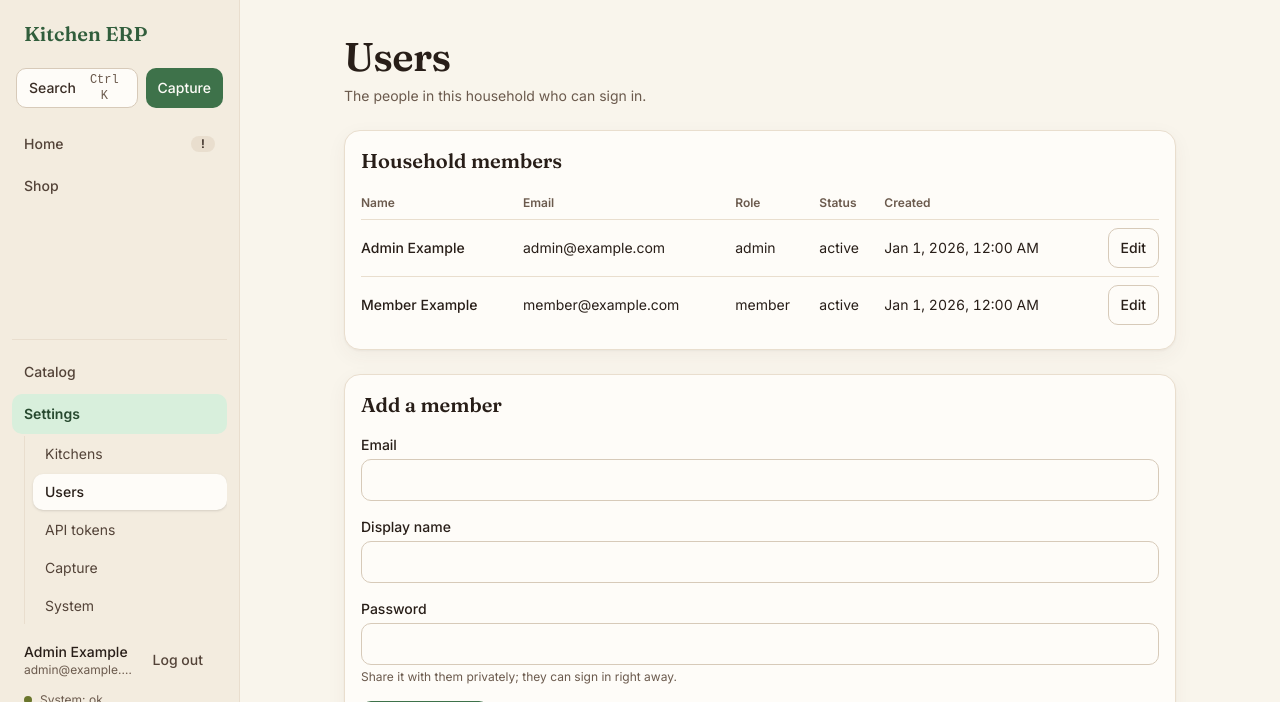
Test case: household members › deactivates a member only after saying what it does
Click the button with aria-label "Edit Member Example" at (1133, 305), box [1108,285,1159,325]
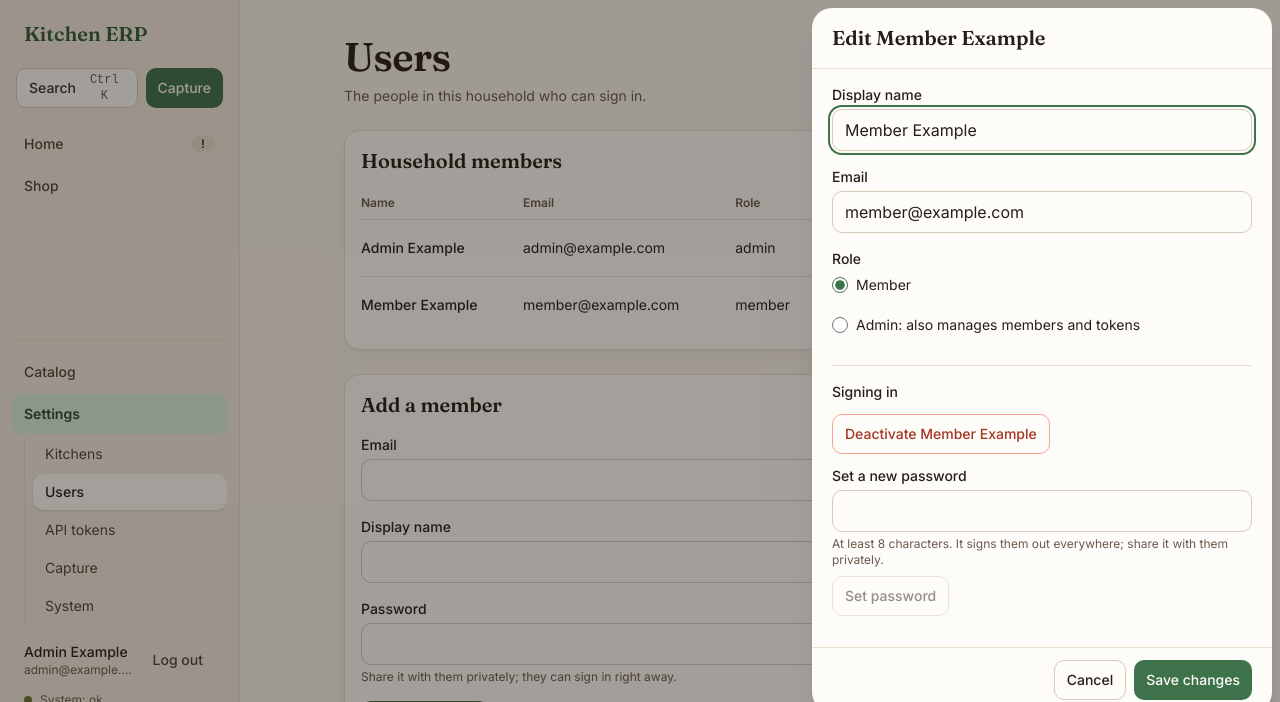
Click the button "Deactivate Member Example" at (941, 434), box [832,414,1050,454]
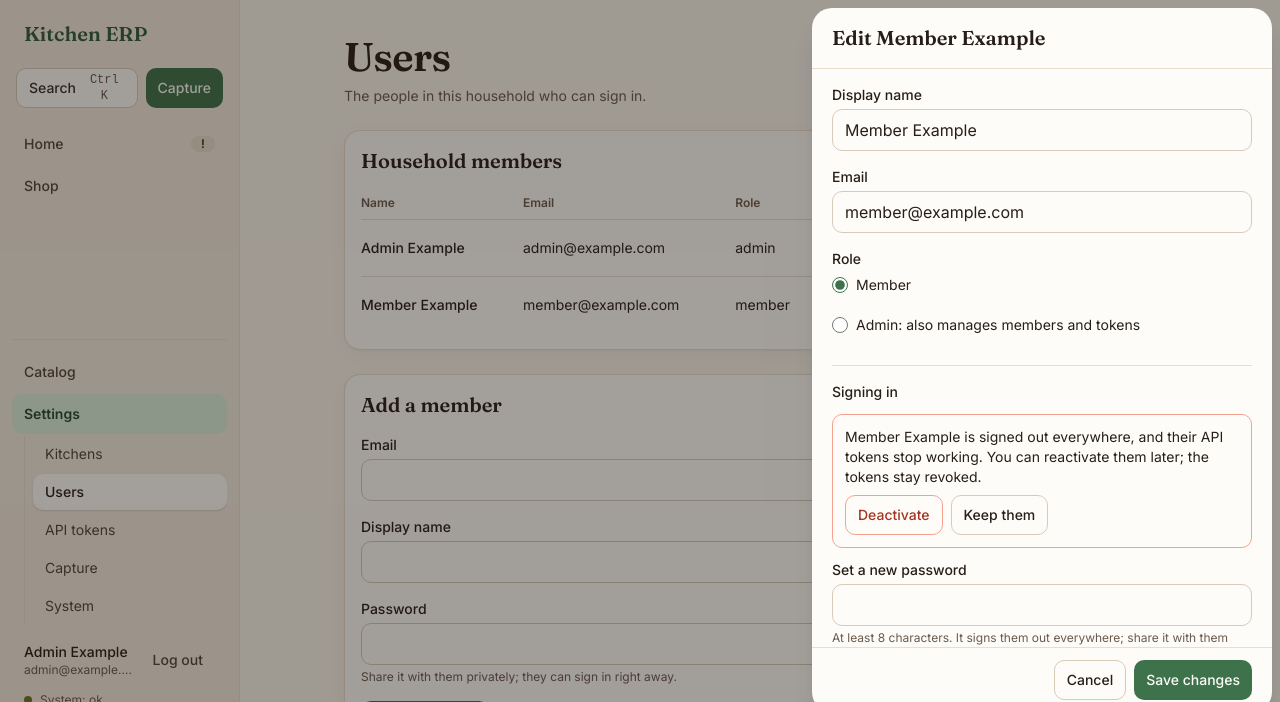
Expected: the text "signed out everywhere, and their API tokens stop working" is shown, [845,428,1223,485]
Click the button "Deactivate" at (894, 515), box [845,495,942,535]
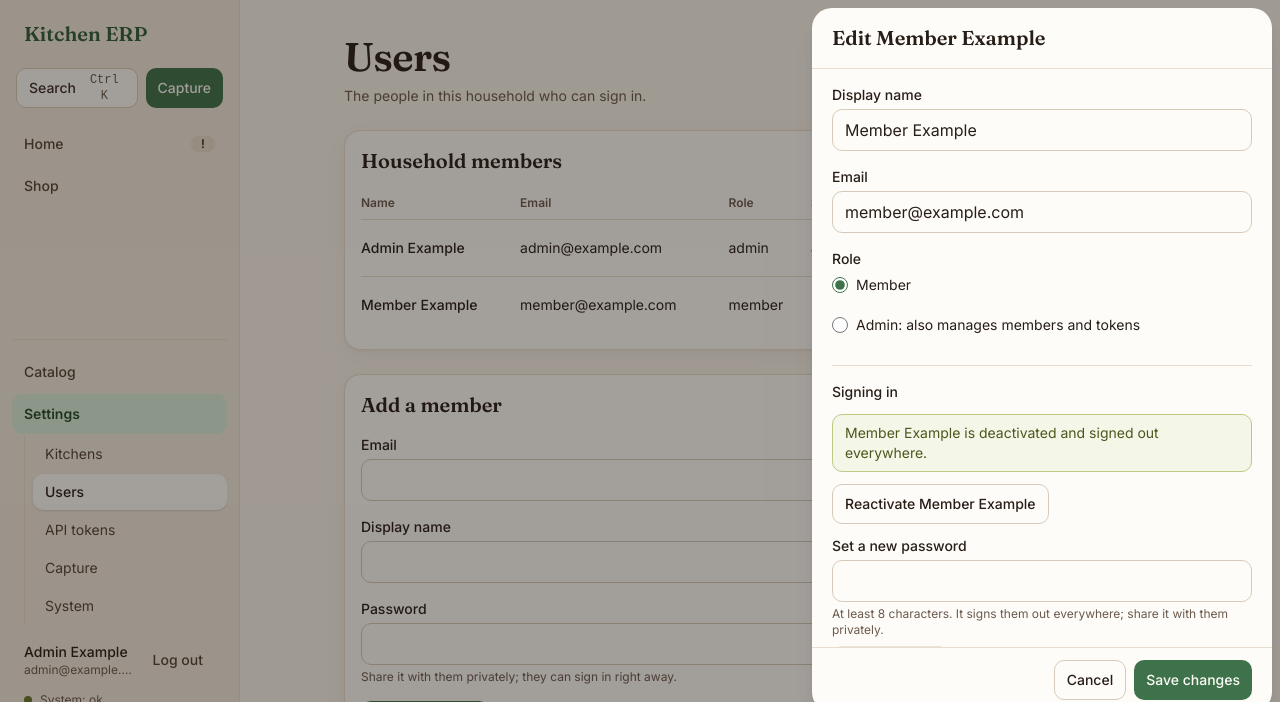
Expected: the text "Member Example is deactivated and signed out everywhere." is shown, [832,414,1252,472]
